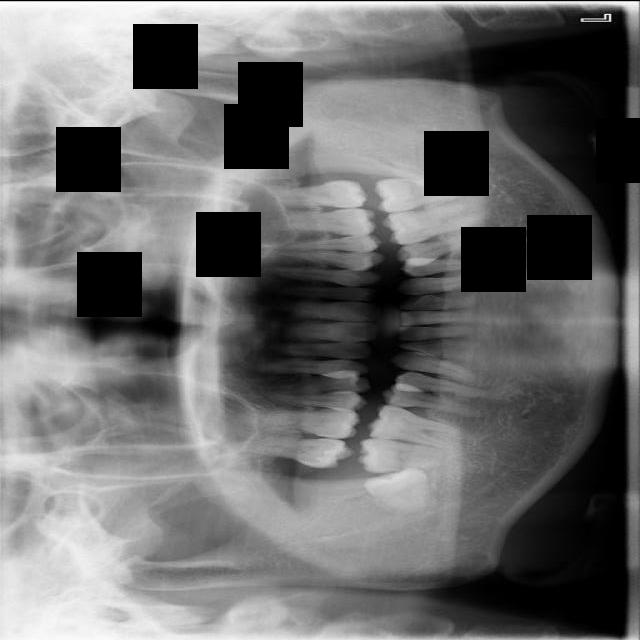73: (558, 38, 593, 40)
BioHorizons Implant: (241, 178, 368, 212)
Blue Sky Bio Implant: (371, 167, 466, 215)
Caries: (212, 429, 355, 470)
Implant: (355, 434, 462, 481)
Keystone Dental Implant: (360, 460, 438, 526)
